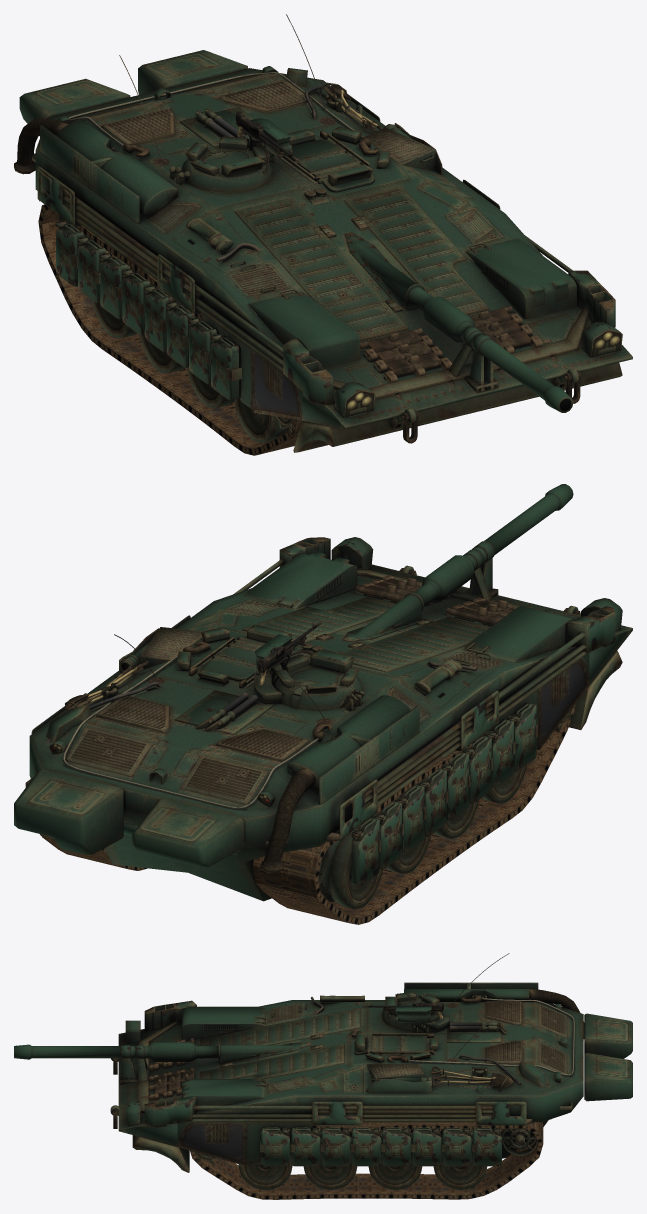
Rendered from strv103.glb.
3 renders of one model, top to bottom at view 1: azimuth 30°, elevation 25°; view 2: azimuth 150°, elevation 25°; view 3: azimuth 270°, elevation 25°, orthographic. The views are drawn at different scales.
Visible parts, largest first — view 1: Body.004_Plane.015, Cube.028_Cube.099, Track.R, Wheel1.R, Wheel4.R, Wheel3.R, Wheel2.R; view 2: Body.004_Plane.015, Cube.028_Cube.099, Track.R, Wheel4.R, Wheel2.R, Wheel3.R, Wheel1.R; view 3: Body.004_Plane.015, Cube.028_Cube.099, Track.L, Wheel4.L, Wheel3.L, Wheel2.L, Wheel1.L, Wheel5.L.
Boxes of the visible parts, x1,y1,x2,y2 form: Body.004_Plane.015: [14, 14, 632, 452]; Cube.028_Cube.099: [39, 84, 581, 443]; Track.R: [38, 204, 302, 455]; Wheel1.R: [234, 398, 289, 442]; Wheel4.R: [92, 258, 161, 338]; Wheel3.R: [140, 293, 203, 373]; Wheel2.R: [187, 367, 234, 408]; Body.004_Plane.015: [14, 484, 632, 901]; Cube.028_Cube.099: [64, 565, 580, 885]; Track.R: [253, 704, 575, 924]; Wheel4.R: [319, 827, 382, 908]; Wheel2.R: [405, 776, 478, 838]; Wheel3.R: [358, 792, 430, 873]; Wheel1.R: [471, 747, 526, 803]; Body.004_Plane.015: [14, 953, 632, 1172]; Cube.028_Cube.099: [110, 1001, 551, 1166]; Track.L: [190, 1122, 543, 1199]; Wheel4.L: [433, 1130, 487, 1190]; Wheel3.L: [368, 1129, 422, 1190]; Wheel2.L: [303, 1130, 357, 1190]; Wheel1.L: [238, 1147, 292, 1190]; Wheel5.L: [502, 1128, 537, 1155].
Size of the model in its own units: 3.54 by 2.75 by 8.95.
2 materials, 2 textured.
